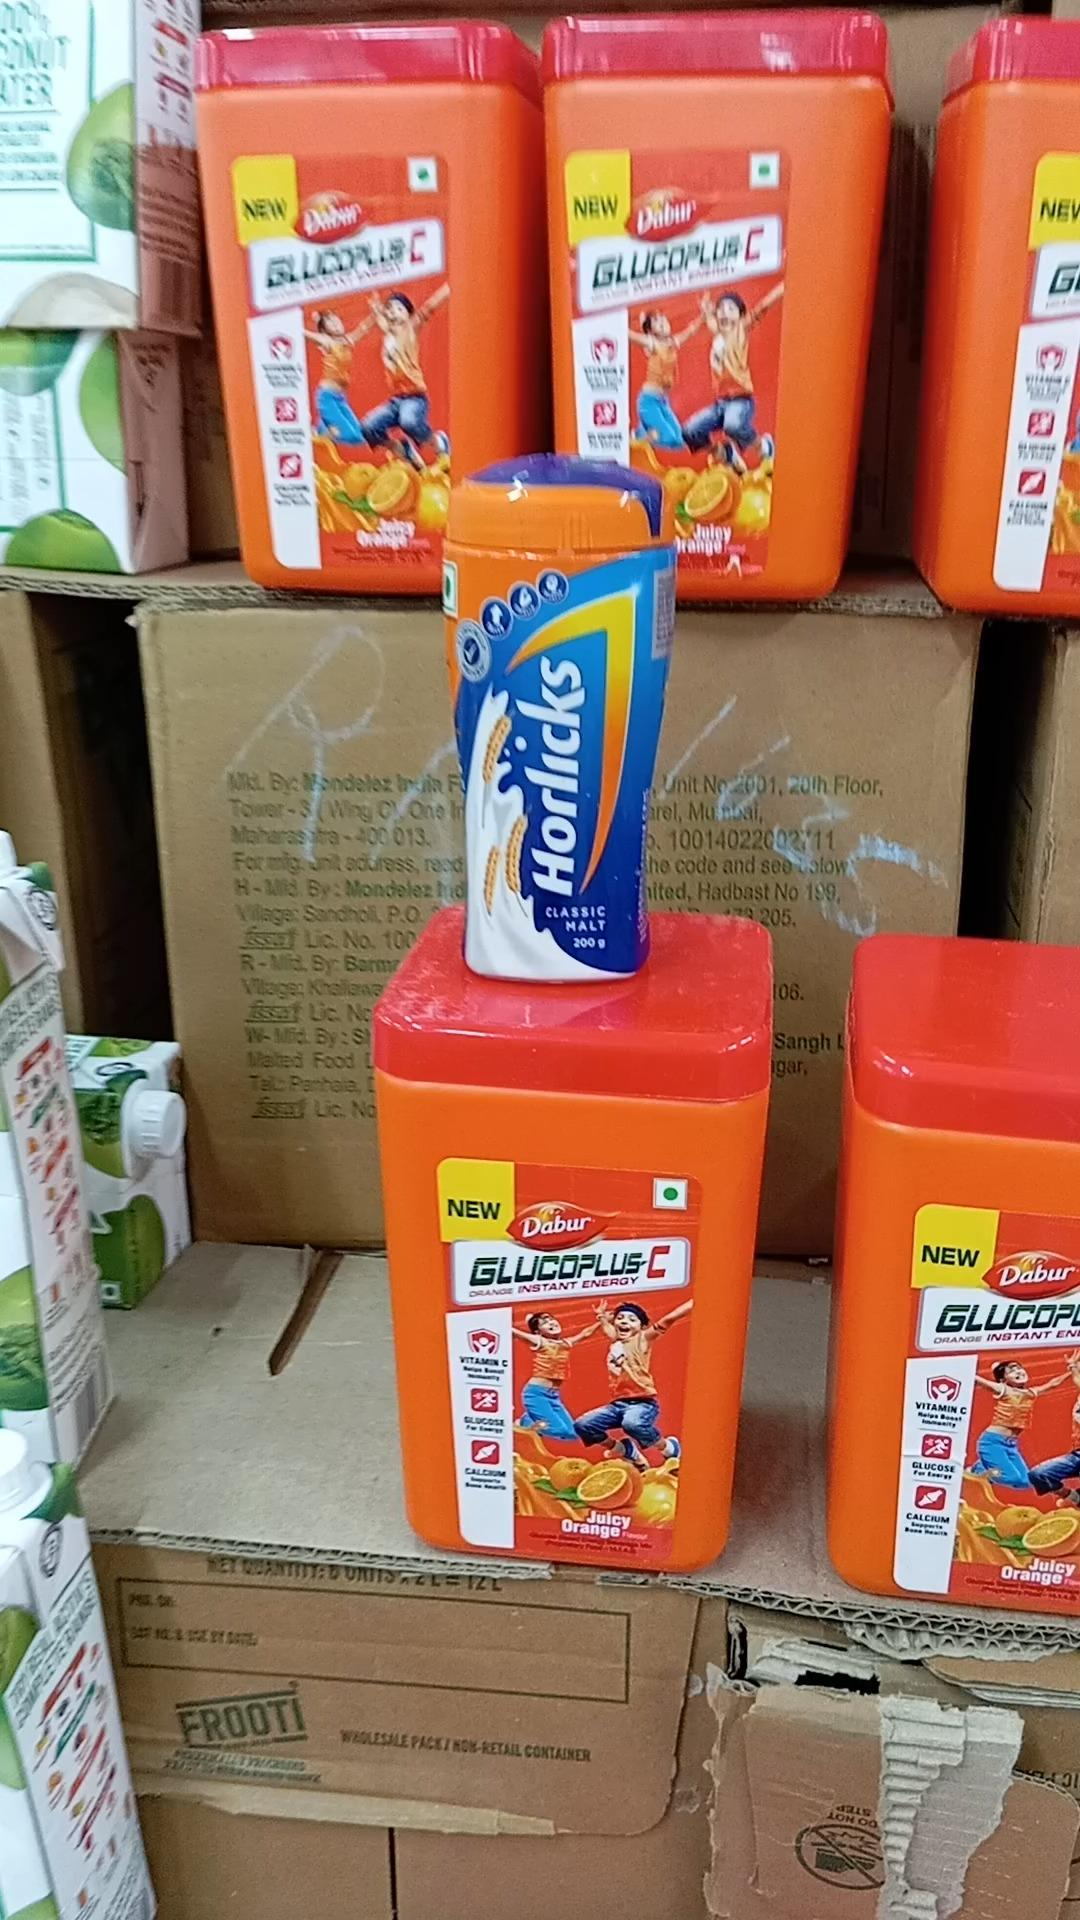HORLICK_CLASSIC_MALT_200_G_JAR: (438, 458, 663, 988)
